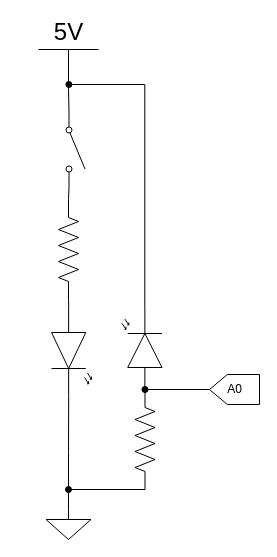
This 277x557 diagram has some shape labels left out. The centre of each missing label's shape, as x and y in pixels:
100 kΩ: [144,439]
220 Ω: [68,249]
